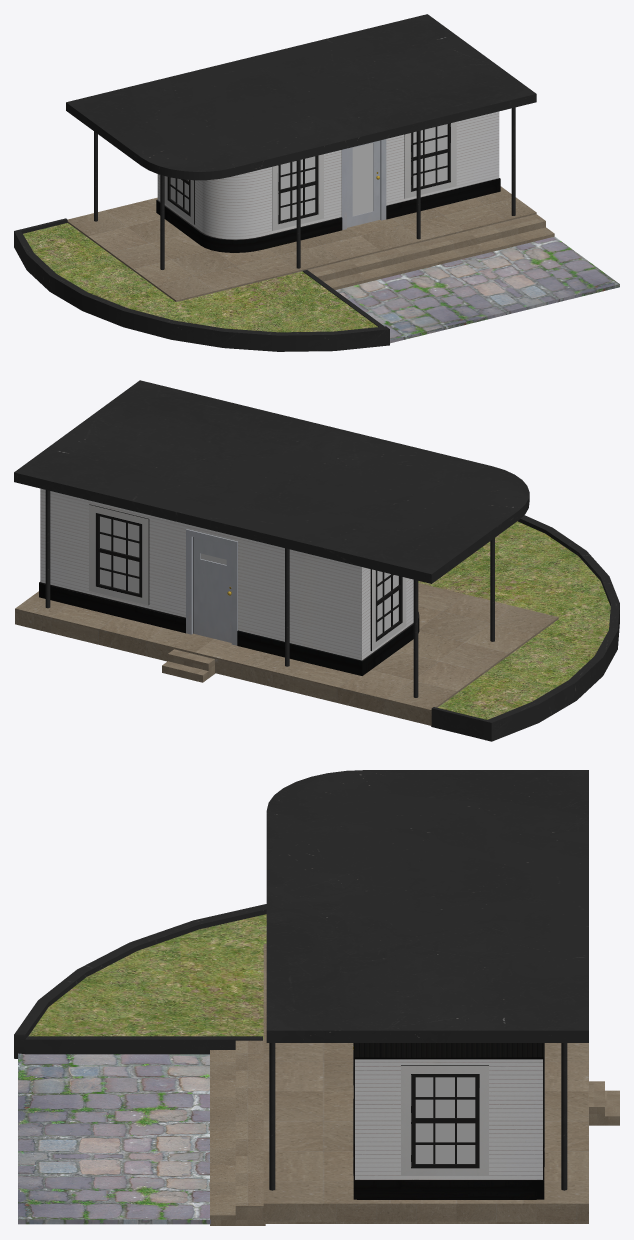
The model's file is small_house_obj.obj.
3 renders of one model, top to bottom at view 1: azimuth 30°, elevation 25°; view 2: azimuth 150°, elevation 25°; view 3: azimuth 270°, elevation 25°, orthographic. The views are drawn at different scales.
Parts seen in each view (by area): view 1: roof_and_pillars_Cylinder.011, floor_Cube.004, house_base_Cylinder.002, grass.001_Cylinder.000, windows_&_stairs_Torus.011, grass_Cylinder.001, door_front_and_back_Cylinder.015; view 2: roof_and_pillars_Cylinder.011, house_base_Cylinder.002, floor_Cube.004, grass.001_Cylinder.000, windows_&_stairs_Torus.011, grass_Cylinder.001, door_front_and_back_Cylinder.015; view 3: roof_and_pillars_Cylinder.011, floor_Cube.004, house_base_Cylinder.002, grass.001_Cylinder.000, windows_&_stairs_Torus.011, grass_Cylinder.001.
Part boxes in pixels (box(x1,y1,x2,y2)): roof_and_pillars_Cylinder.011: box(66, 14, 536, 269); floor_Cube.004: box(67, 186, 619, 343); house_base_Cylinder.002: box(156, 111, 500, 252); grass.001_Cylinder.000: box(23, 223, 377, 332); windows_&_stairs_Torus.011: box(164, 122, 554, 289); grass_Cylinder.001: box(14, 218, 389, 351); door_front_and_back_Cylinder.015: box(341, 139, 386, 229); roof_and_pillars_Cylinder.011: box(14, 380, 529, 697); house_base_Cylinder.002: box(39, 488, 419, 675); floor_Cube.004: box(15, 583, 558, 725); grass.001_Cylinder.000: box(418, 521, 610, 719); windows_&_stairs_Torus.011: box(89, 504, 406, 682); grass_Cylinder.001: box(431, 515, 619, 741); door_front_and_back_Cylinder.015: box(186, 529, 237, 645); roof_and_pillars_Cylinder.011: box(266, 770, 588, 1190); floor_Cube.004: box(18, 943, 588, 1224); house_base_Cylinder.002: box(353, 1043, 544, 1199); grass.001_Cylinder.000: box(28, 914, 266, 1039); windows_&_stairs_Torus.011: box(210, 1039, 619, 1225); grass_Cylinder.001: box(14, 904, 266, 1058).
Size of the model in its own units: 385 by 113 by 316.
Materials: 8 (6 with a texture image).
